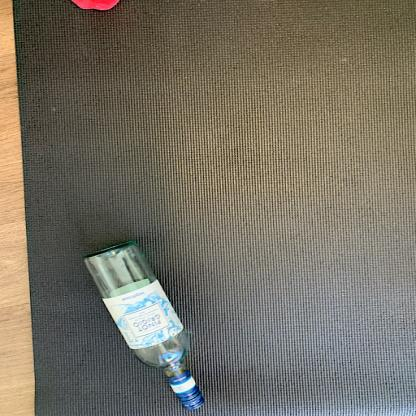trash: (83, 238, 210, 410)
